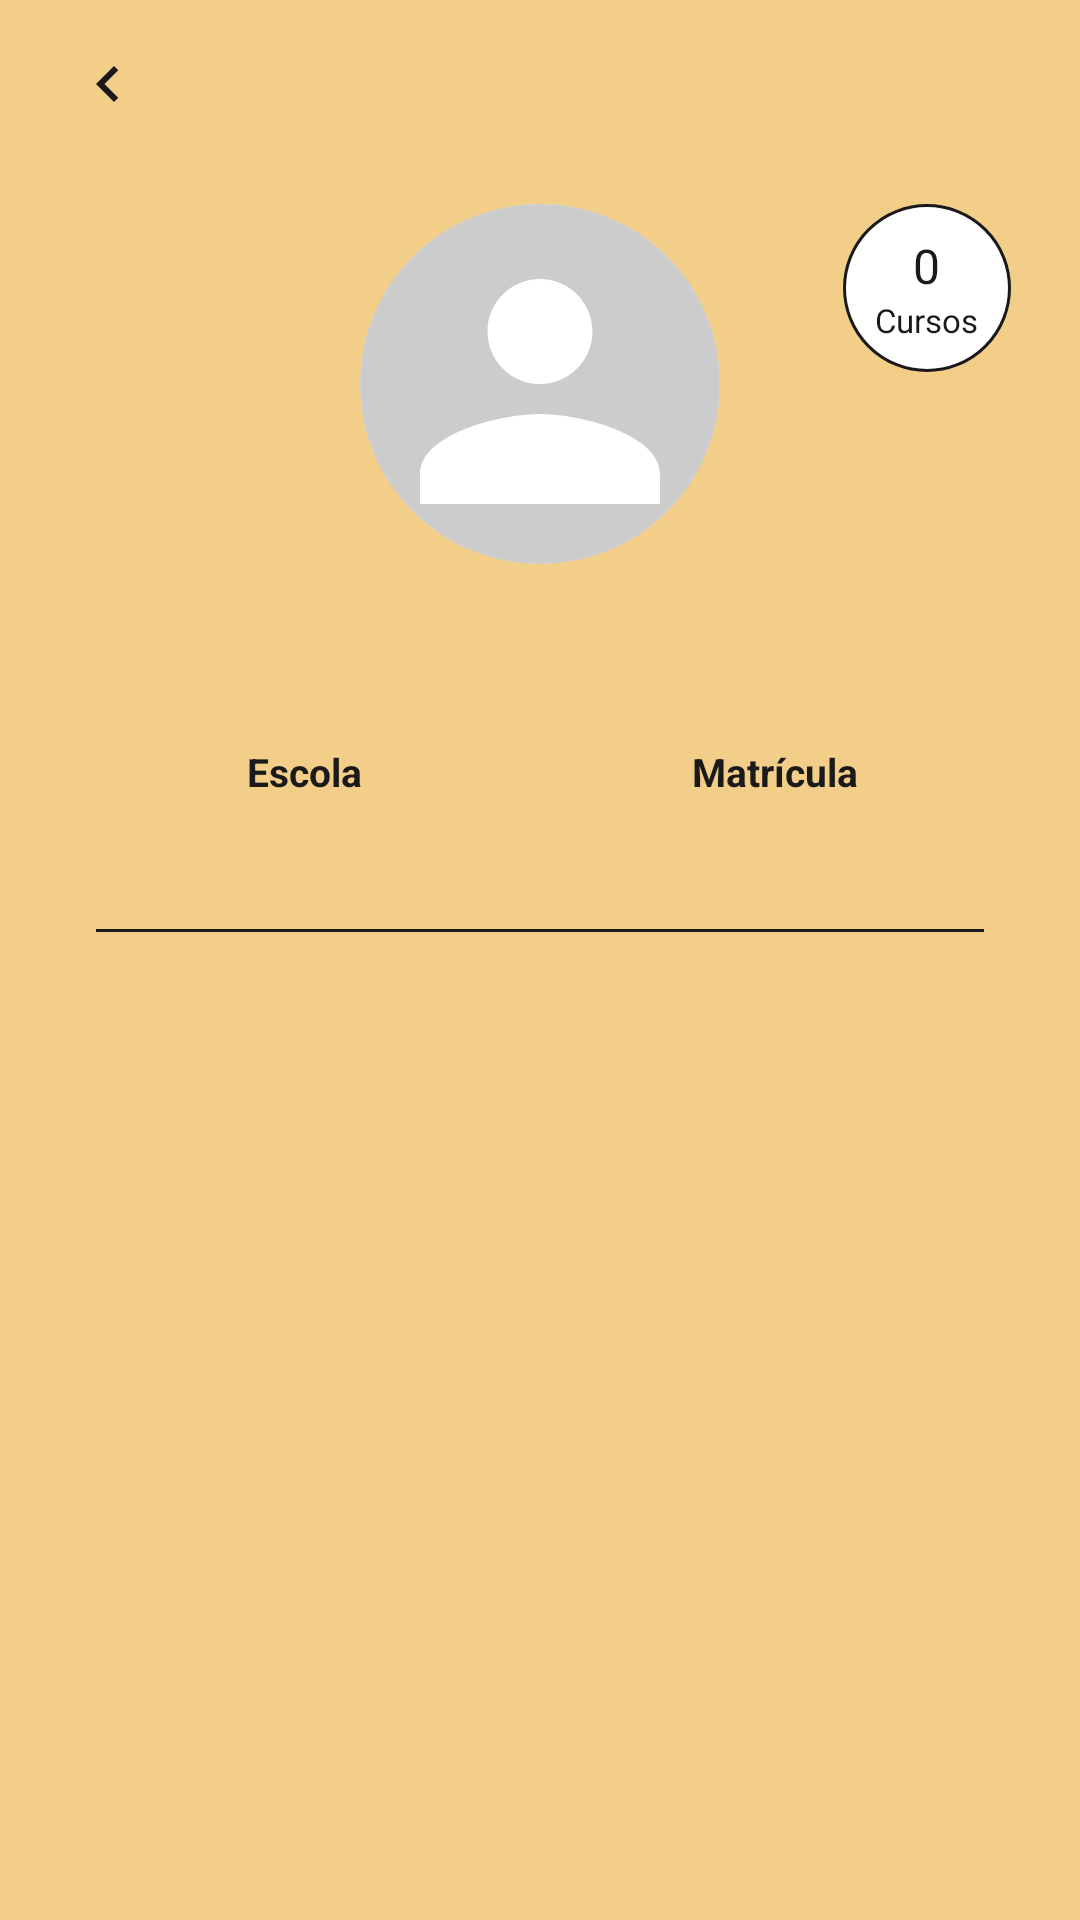

Where icons sit on this 1080 × 1920 app screen, as box=[x1, y1, x2, y2]:
Voltar: box=[96, 66, 118, 102]
